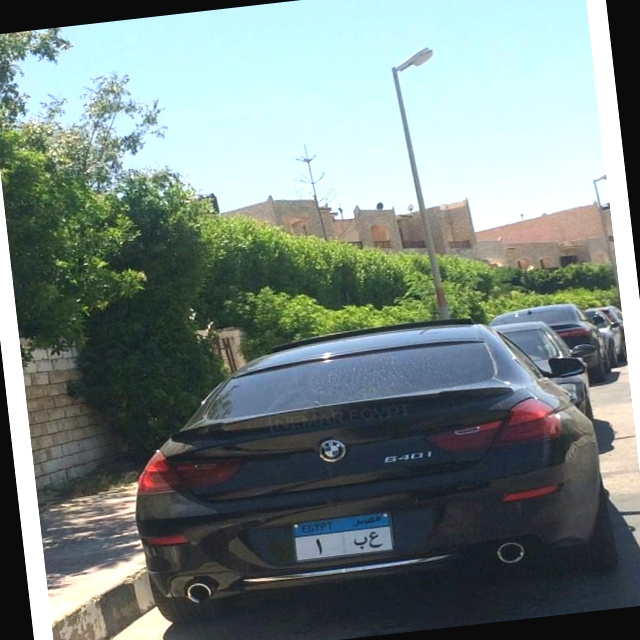License Plate: (287, 508, 400, 565)
